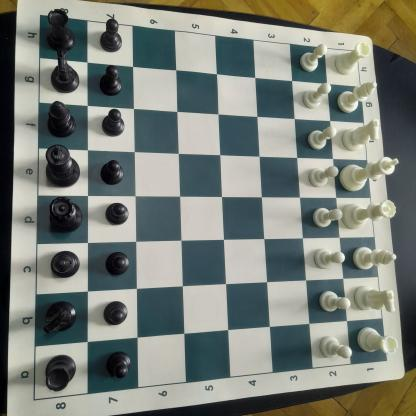black-bishop: (43, 100, 78, 139), (47, 248, 82, 281)
black-king: (43, 142, 83, 189)
black-knight: (49, 48, 82, 94), (42, 299, 79, 338)
black-pawn: (98, 17, 126, 54), (106, 348, 133, 382), (98, 64, 124, 98), (98, 157, 126, 188), (99, 107, 126, 139), (101, 299, 129, 327), (104, 250, 131, 278), (105, 199, 130, 228)
black-queen: (46, 194, 87, 234)
black-rook: (44, 352, 80, 394), (45, 8, 77, 54)
white-bishop: (336, 80, 378, 115), (351, 244, 397, 272)
white-king: (338, 156, 400, 194)
white-knight: (339, 117, 383, 153), (352, 284, 398, 316)
white-pawn: (298, 43, 328, 75), (306, 163, 340, 191), (319, 333, 352, 361), (317, 289, 352, 315), (302, 82, 332, 111), (311, 205, 344, 231), (312, 246, 346, 270), (306, 126, 337, 152)
white-queen: (342, 198, 398, 232)
white-rook: (356, 324, 400, 358), (333, 40, 371, 77)
